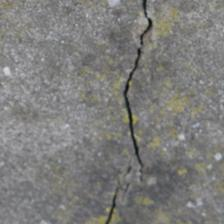Crack: (12, 95, 218, 185), (2, 0, 34, 128)
